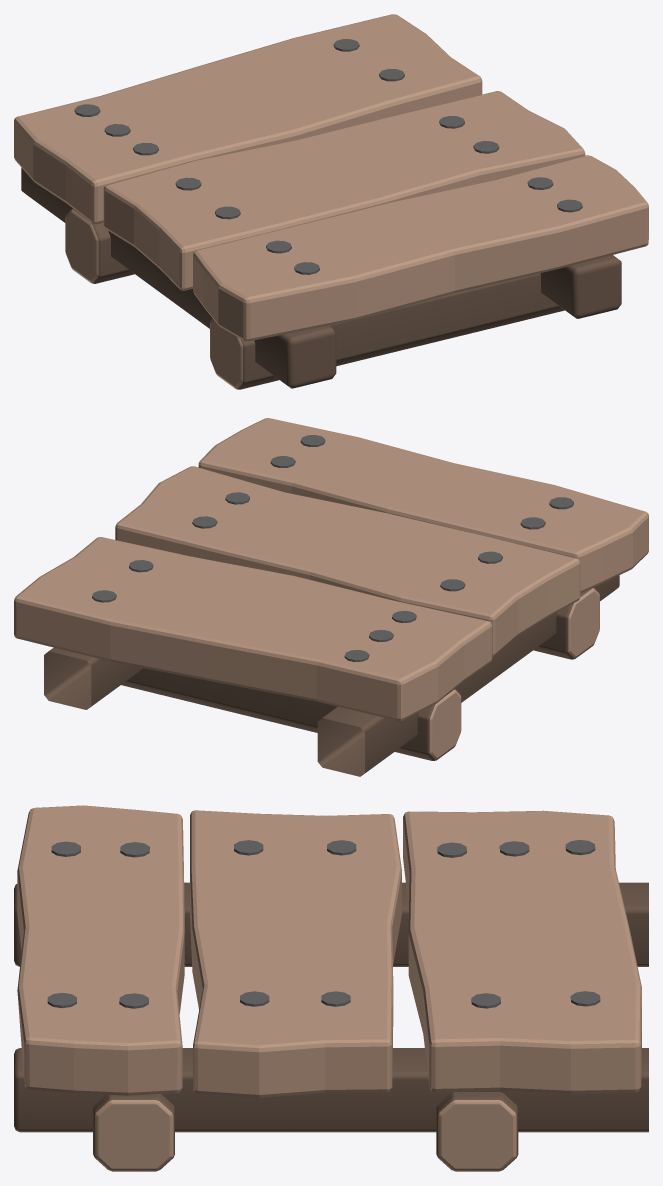
The model's file is a1_L_wood_block.fbx.
3 renders of one model, top to bottom at view 1: azimuth 30°, elevation 25°; view 2: azimuth 150°, elevation 25°; view 3: azimuth 270°, elevation 25°, orthographic. The views are drawn at different scales.
Visible parts, largest first — view 1: L_wood_block; view 2: L_wood_block; view 3: L_wood_block.
Part boxes in pixels (x1,y1,x2,y2): L_wood_block: [14, 14, 648, 389]; L_wood_block: [14, 418, 648, 776]; L_wood_block: [14, 805, 648, 1171].
Size of the model in its own units: 1.68 by 0.4742 by 1.85.
